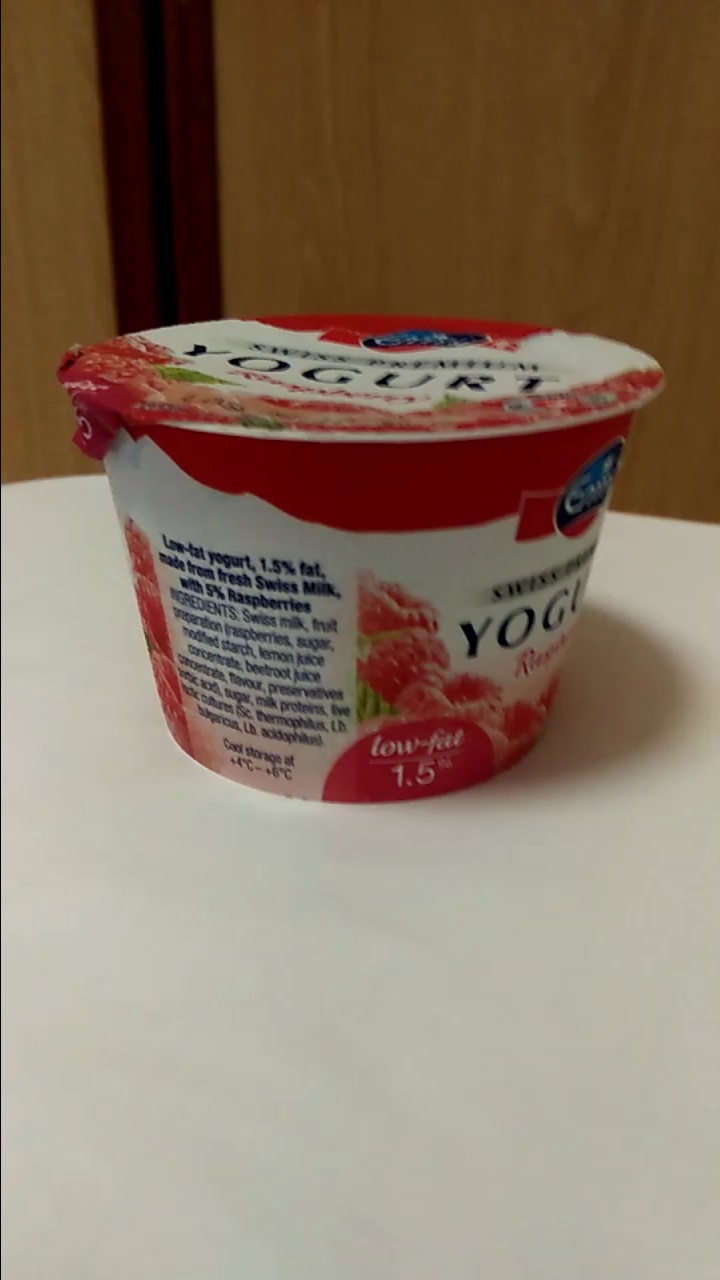yogurt: (66, 319, 652, 804)
